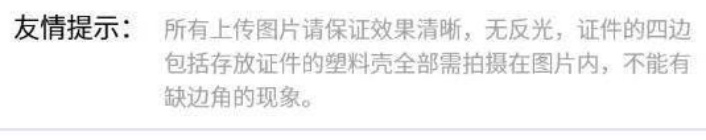EditText: (1, 1, 705, 139)
